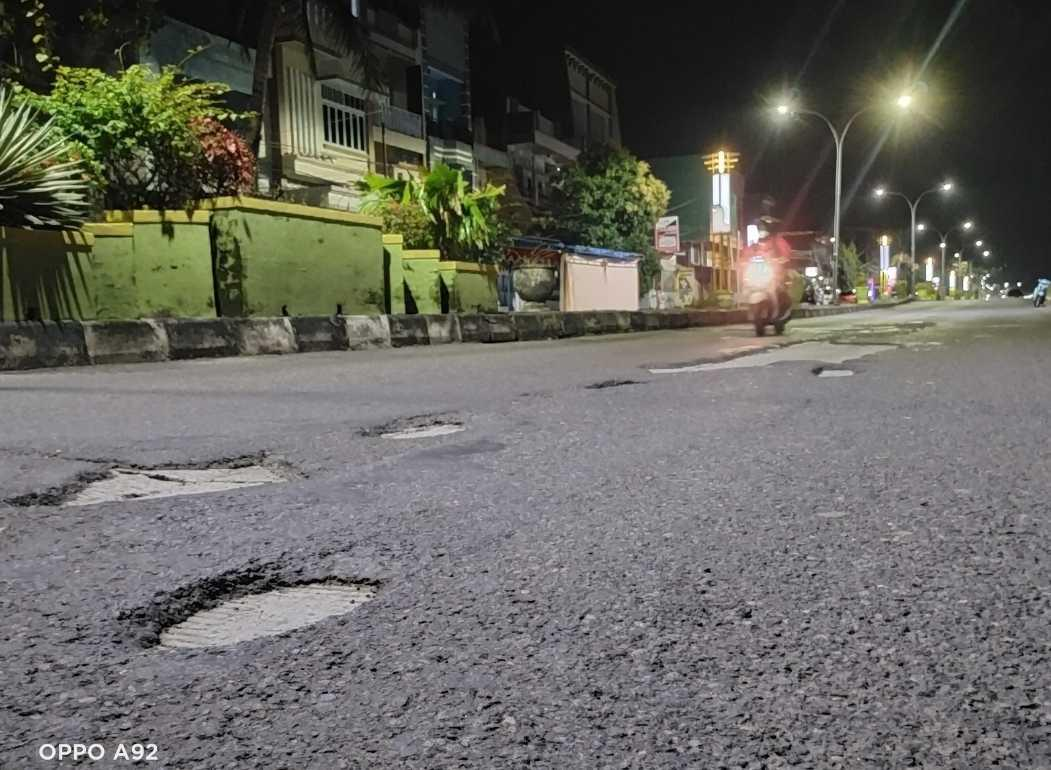Pothole: (82, 545, 422, 656), (0, 441, 315, 547), (574, 328, 947, 397), (340, 390, 488, 464)
